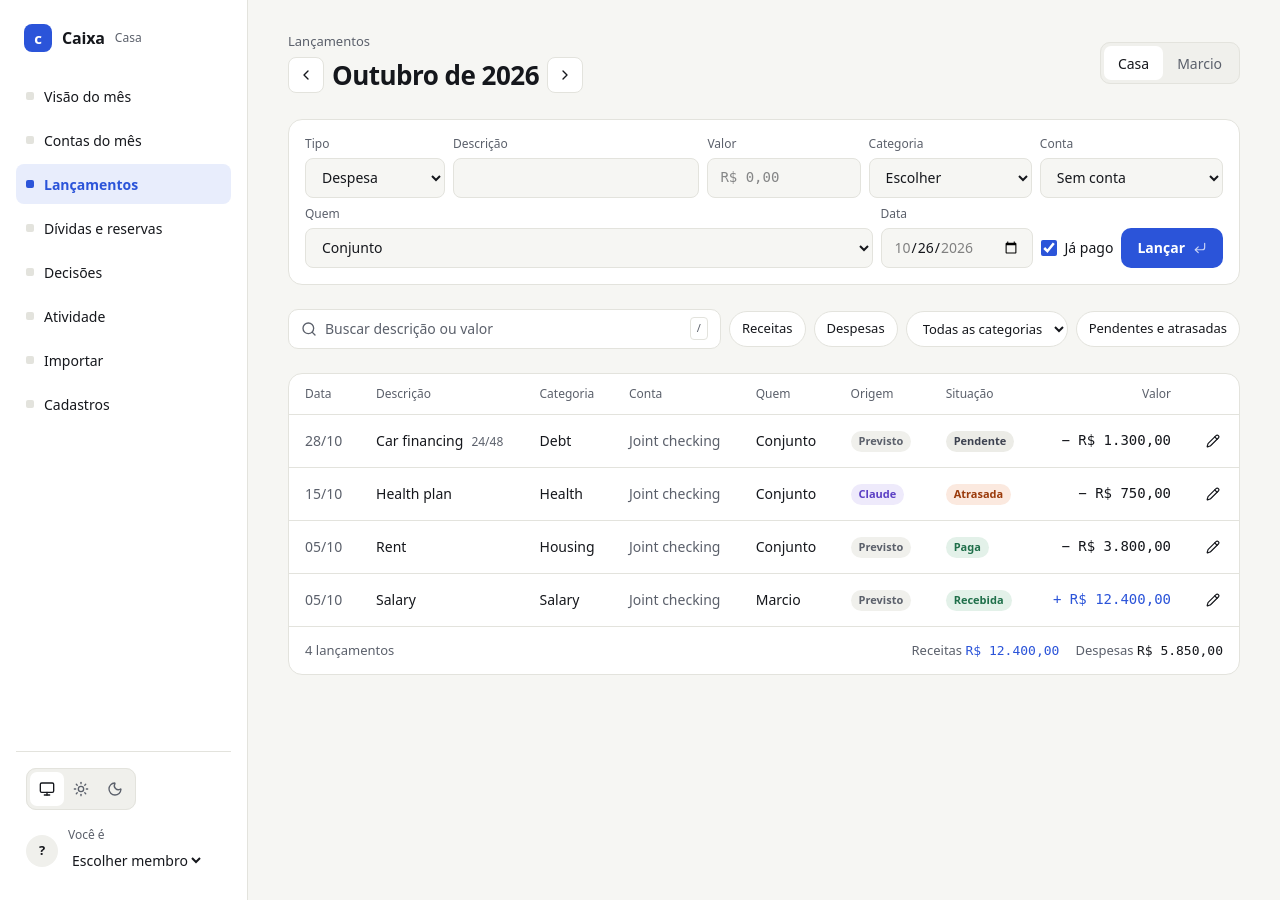
Test: offers to clear filters when nothing matches
Step 1. Type "nothing like this" into the search field named "Buscar" → point(503, 328), box [325,318,682,339]
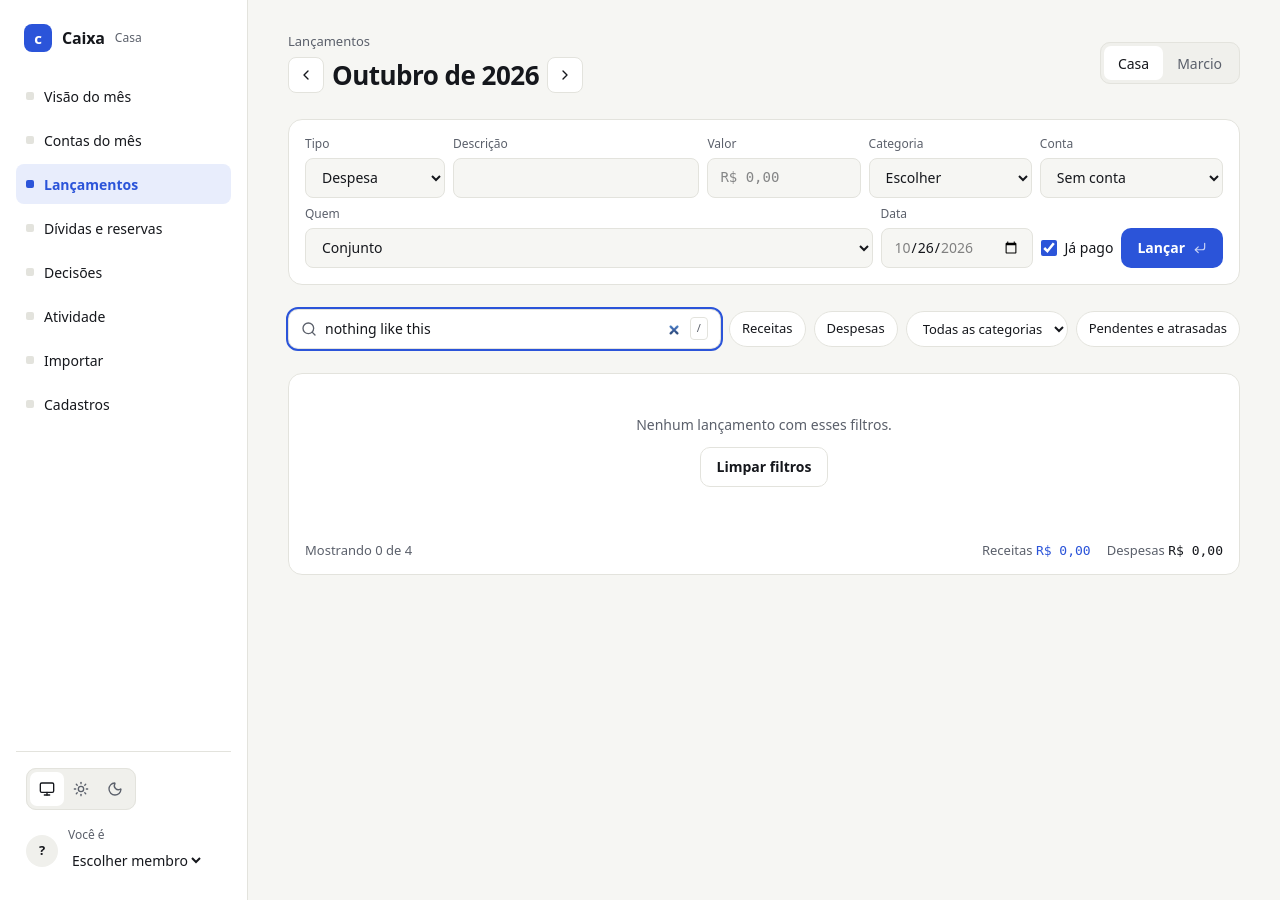
Check: the table is gone
Step 2. Click the button "Limpar filtros" → point(764, 466), box [700,446,828,486]
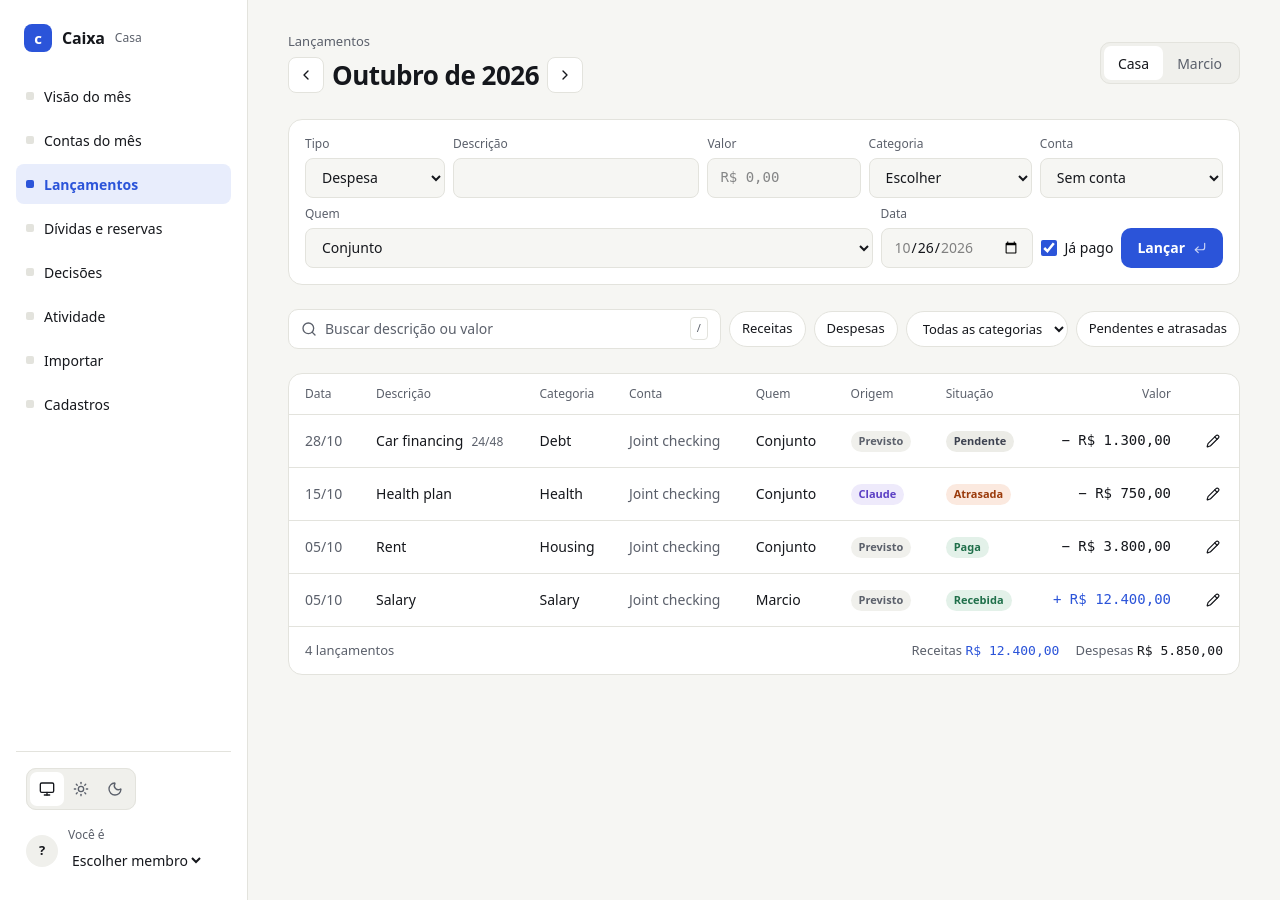
Check: the search field named "Buscar" is empty, box [325,318,682,339]
